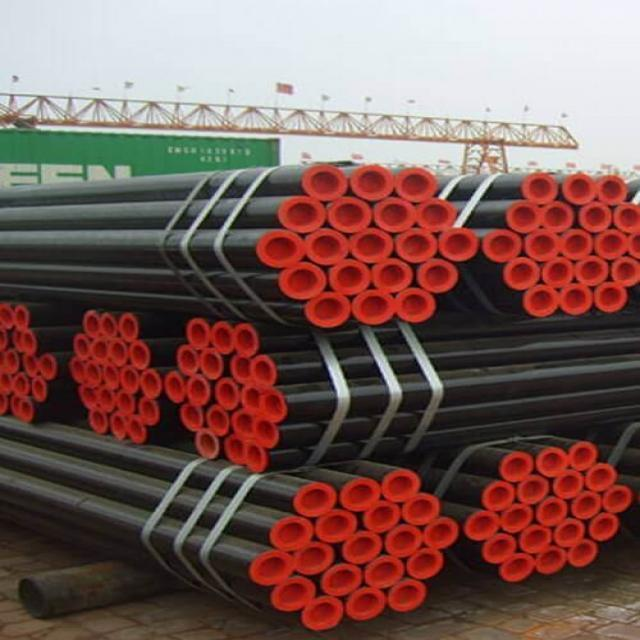pipe: (328, 201, 372, 230), (282, 198, 323, 229), (264, 232, 303, 264), (355, 167, 392, 198), (278, 579, 313, 610), (351, 232, 389, 260), (306, 169, 345, 196), (418, 200, 454, 229), (346, 534, 383, 562), (273, 520, 310, 548), (311, 296, 346, 325), (378, 202, 414, 230), (367, 558, 403, 586), (367, 502, 401, 531), (299, 485, 334, 513), (442, 231, 478, 258), (330, 263, 367, 289), (310, 235, 345, 262), (375, 263, 410, 290), (296, 545, 331, 572), (357, 294, 393, 320), (346, 481, 379, 509), (400, 172, 435, 198), (400, 233, 435, 259), (419, 262, 454, 288), (486, 232, 521, 258), (388, 584, 424, 609), (257, 554, 290, 581), (324, 567, 359, 592), (403, 291, 433, 320), (384, 473, 416, 500), (390, 527, 421, 554), (287, 267, 319, 293), (307, 600, 339, 626), (320, 513, 354, 537), (351, 590, 381, 617), (508, 204, 539, 230), (502, 555, 533, 581), (596, 231, 628, 256), (509, 261, 538, 287), (235, 325, 261, 354), (526, 176, 556, 201), (502, 505, 532, 530), (527, 290, 558, 314), (260, 395, 287, 422), (527, 232, 556, 257), (522, 527, 551, 552), (467, 512, 497, 536), (405, 497, 436, 520), (250, 418, 276, 445), (542, 204, 570, 229), (602, 179, 630, 204), (413, 551, 441, 576), (502, 454, 531, 478), (564, 286, 590, 312), (486, 483, 513, 508), (216, 380, 240, 408), (564, 178, 593, 201), (580, 207, 610, 228), (210, 324, 235, 349), (579, 259, 606, 282), (564, 234, 591, 257), (539, 451, 566, 474), (178, 346, 200, 374), (429, 522, 457, 544), (485, 537, 514, 558), (201, 351, 224, 377), (188, 375, 207, 406), (587, 465, 613, 487), (538, 501, 564, 523), (572, 542, 598, 564), (166, 373, 185, 403), (548, 262, 574, 283), (209, 408, 229, 435), (600, 286, 623, 309), (187, 321, 209, 345), (233, 411, 254, 436), (604, 488, 629, 509), (243, 386, 263, 412), (521, 481, 547, 501), (543, 549, 565, 572), (616, 207, 640, 228), (231, 357, 253, 379), (557, 473, 580, 494), (198, 433, 218, 457), (558, 523, 582, 543), (245, 442, 263, 468), (575, 495, 599, 514), (143, 372, 161, 397), (619, 261, 640, 282), (596, 516, 617, 537), (255, 360, 275, 382), (573, 445, 593, 467), (183, 407, 201, 430), (120, 315, 137, 339), (109, 414, 126, 437), (90, 409, 107, 432), (132, 343, 147, 369), (111, 341, 127, 365), (127, 418, 145, 439), (92, 339, 110, 360), (228, 438, 245, 460), (84, 313, 101, 335), (141, 399, 157, 422), (105, 365, 120, 389), (123, 367, 137, 391), (74, 336, 90, 357), (41, 355, 56, 377), (118, 393, 134, 413), (21, 332, 36, 353), (5, 350, 18, 374), (72, 358, 86, 380), (87, 362, 99, 386), (33, 376, 46, 398), (101, 316, 116, 335), (81, 388, 95, 408), (13, 376, 28, 394), (25, 355, 38, 374), (16, 309, 29, 327), (102, 389, 113, 410), (21, 400, 33, 419), (13, 329, 23, 351), (11, 397, 23, 415), (1, 307, 12, 326), (0, 373, 10, 390)
